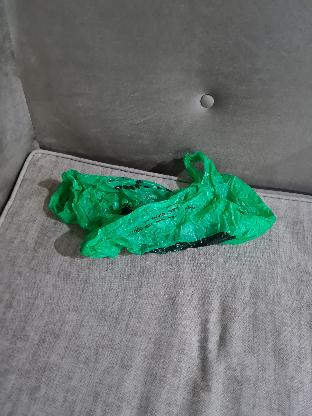Plastic Bag: (41, 156, 287, 263)
